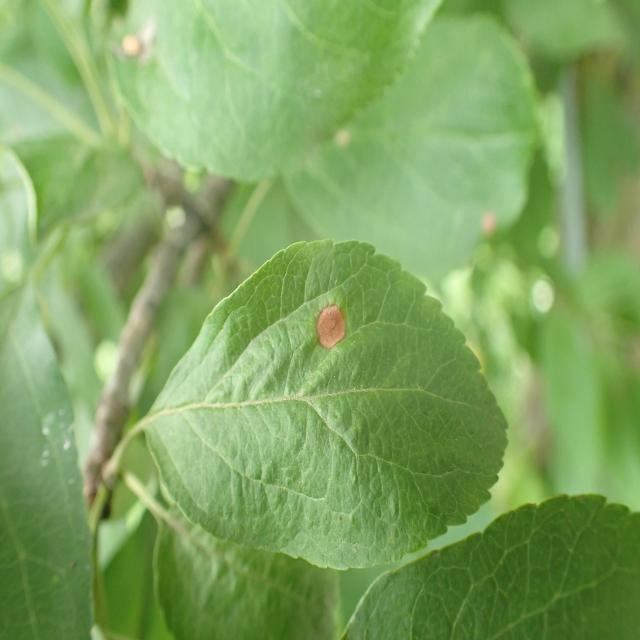frog-eye-leaf-spot: (142, 238, 510, 570)
